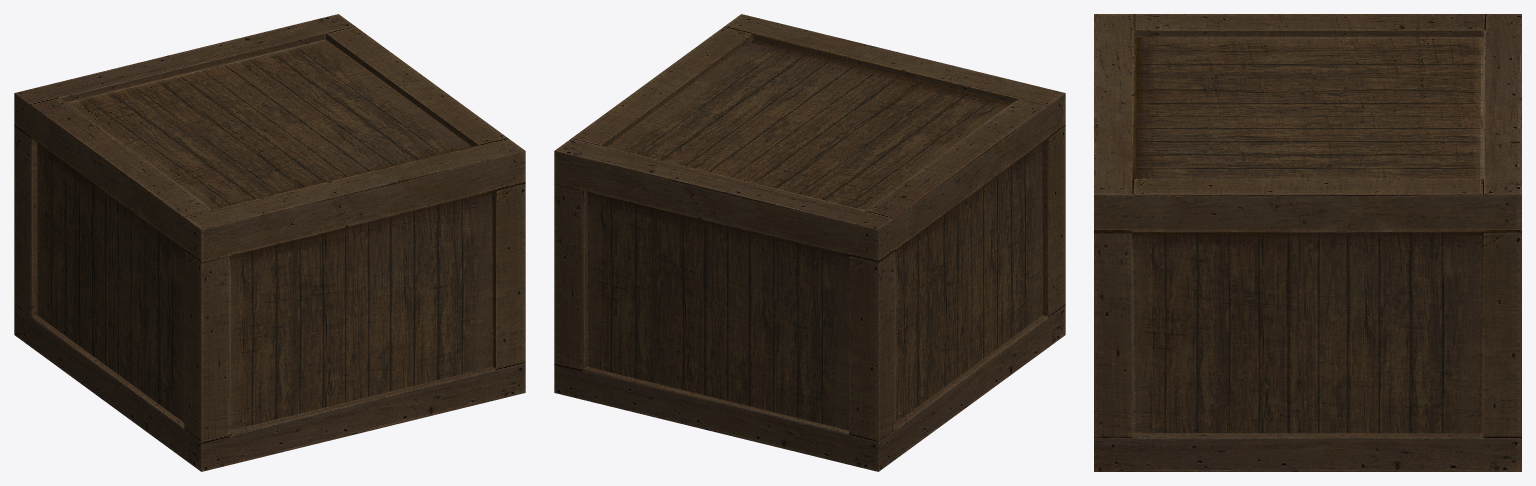
Rendered from wooden_crate_hx_6_2.glb.
3 renders of one model, left to right at view 1: azimuth 30°, elevation 25°; view 2: azimuth 150°, elevation 25°; view 3: azimuth 270°, elevation 25°, orthographic. The views are drawn at different scales.
Visible parts, largest first — view 1: wooden_crate_hx_6_2; view 2: wooden_crate_hx_6_2; view 3: wooden_crate_hx_6_2.
Part boxes in pixels (x1,y1,x2,y2): wooden_crate_hx_6_2: (14, 14, 525, 471); wooden_crate_hx_6_2: (554, 14, 1065, 471); wooden_crate_hx_6_2: (1094, 14, 1521, 471).
Bounding box in the file's own units: 1.4 × 1 × 1.4.
Materials: 1 (1 with a texture image).
